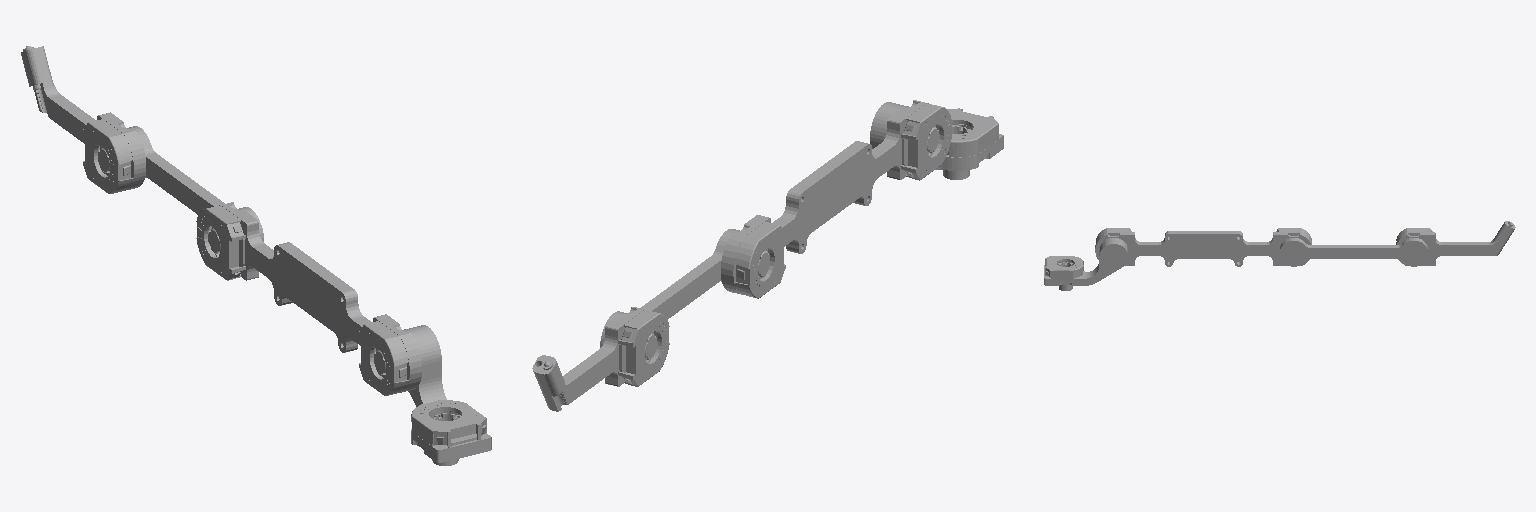
URDF robot description (V5):
<?xml version="1.0" encoding="utf-8"?>
<!-- =================================================================================== -->
<!-- |    This document was autogenerated by xacro from V5.xacro                       | -->
<!-- |    EDITING THIS FILE BY HAND IS NOT RECOMMENDED                                 | -->
<!-- =================================================================================== -->
<robot name="V5">
  <material name="silver">
    <color rgba="0.700 0.700 0.700 1.000"/>
  </material>
  <transmission name="Rev5_tran">
    <type>transmission_interface/SimpleTransmission</type>
    <joint name="Rev5">
      <hardwareInterface>hardware_interface/EffortJointInterface</hardwareInterface>
    </joint>
    <actuator name="Rev5_actr">
      <hardwareInterface>hardware_interface/EffortJointInterface</hardwareInterface>
      <mechanicalReduction>1</mechanicalReduction>
    </actuator>
  </transmission>
  <transmission name="Rev6_tran">
    <type>transmission_interface/SimpleTransmission</type>
    <joint name="Rev6">
      <hardwareInterface>hardware_interface/EffortJointInterface</hardwareInterface>
    </joint>
    <actuator name="Rev6_actr">
      <hardwareInterface>hardware_interface/EffortJointInterface</hardwareInterface>
      <mechanicalReduction>1</mechanicalReduction>
    </actuator>
  </transmission>
  <transmission name="Rev7_tran">
    <type>transmission_interface/SimpleTransmission</type>
    <joint name="Rev7">
      <hardwareInterface>hardware_interface/EffortJointInterface</hardwareInterface>
    </joint>
    <actuator name="Rev7_actr">
      <hardwareInterface>hardware_interface/EffortJointInterface</hardwareInterface>
      <mechanicalReduction>1</mechanicalReduction>
    </actuator>
  </transmission>
  <transmission name="Rev8_tran">
    <type>transmission_interface/SimpleTransmission</type>
    <joint name="Rev8">
      <hardwareInterface>hardware_interface/EffortJointInterface</hardwareInterface>
    </joint>
    <actuator name="Rev8_actr">
      <hardwareInterface>hardware_interface/EffortJointInterface</hardwareInterface>
      <mechanicalReduction>1</mechanicalReduction>
    </actuator>
  </transmission>
  <gazebo>
    <plugin filename="libgazebo_ros_control.so" name="control"/>
  </gazebo>
  <gazebo reference="base_link">
    <material>Gazebo/Silver</material>
    <mu1>0.2</mu1>
    <mu2>0.2</mu2>
    <selfCollide>true</selfCollide>
    <gravity>true</gravity>
  </gazebo>
  <gazebo reference="link_3_1">
    <material>Gazebo/Silver</material>
    <mu1>0.2</mu1>
    <mu2>0.2</mu2>
    <selfCollide>true</selfCollide>
  </gazebo>
  <gazebo reference="link_2_1">
    <material>Gazebo/Silver</material>
    <mu1>0.2</mu1>
    <mu2>0.2</mu2>
    <selfCollide>true</selfCollide>
  </gazebo>
  <gazebo reference="link_1_1">
    <material>Gazebo/Silver</material>
    <mu1>0.2</mu1>
    <mu2>0.2</mu2>
    <selfCollide>true</selfCollide>
  </gazebo>
  <gazebo reference="link_0_1">
    <material>Gazebo/Silver</material>
    <mu1>0.2</mu1>
    <mu2>0.2</mu2>
    <selfCollide>true</selfCollide>
  </gazebo>
  <link name="base_link">
    <inertial>
      <origin rpy="0 0 0" xyz="0.0030690000529868112 -0.004930753908953767 0.0060954147991827655"/>
      <mass value="0.001017166589049506"/>
      <inertia ixx="0.0" ixy="0.0" ixz="0.0" iyy="0.0" iyz="0.0" izz="0.0"/>
    </inertial>
    <visual>
      <origin rpy="0 0 0" xyz="0 0 0"/>
      <geometry>
        <mesh filename="package://V5_description/meshes/base_link.stl" scale="0.001 0.001 0.001"/>
      </geometry>
      <material name="silver"/>
    </visual>
    <collision>
      <origin rpy="0 0 0" xyz="0 0 0"/>
      <geometry>
        <mesh filename="package://V5_description/meshes/base_link.stl" scale="0.001 0.001 0.001"/>
      </geometry>
    </collision>
  </link>
  <link name="link_3_1">
    <inertial>
      <origin rpy="0 0 0" xyz="-0.005152868471693287 0.02481010722854876 0.0018574172697317093"/>
      <mass value="0.011902447961491562"/>
      <inertia ixx="1.1e-05" ixy="-0.0" ixz="0.0" iyy="1e-06" iyz="-1e-06" izz="1e-05"/>
    </inertial>
    <visual>
      <origin rpy="0 0 0" xyz="-0.005069 -0.285069 -0.031743"/>
      <geometry>
        <mesh filename="package://V5_description/meshes/link_3_1.stl" scale="0.001 0.001 0.001"/>
      </geometry>
      <material name="silver"/>
    </visual>
    <collision>
      <origin rpy="0 0 0" xyz="-0.005069 -0.285069 -0.031743"/>
      <geometry>
        <mesh filename="package://V5_description/meshes/link_3_1.stl" scale="0.001 0.001 0.001"/>
      </geometry>
    </collision>
  </link>
  <link name="link_2_1">
    <inertial>
      <origin rpy="0 0 0" xyz="0.0009055416474958236 0.049999413752218724 2.1327025657297272e-07"/>
      <mass value="0.10132228949775199"/>
      <inertia ixx="0.000184" ixy="-0.0" ixz="-0.0" iyy="4e-06" iyz="0.0" izz="0.000184"/>
    </inertial>
    <visual>
      <origin rpy="0 0 0" xyz="-0.005069 -0.185069 -0.031743"/>
      <geometry>
        <mesh filename="package://V5_description/meshes/link_2_1.stl" scale="0.001 0.001 0.001"/>
      </geometry>
      <material name="silver"/>
    </visual>
    <collision>
      <origin rpy="0 0 0" xyz="-0.005069 -0.185069 -0.031743"/>
      <geometry>
        <mesh filename="package://V5_description/meshes/link_2_1.stl" scale="0.001 0.001 0.001"/>
      </geometry>
    </collision>
  </link>
  <link name="link_1_1">
    <inertial>
      <origin rpy="0 0 0" xyz="-0.004689560010774196 0.07499986334155206 0.0010242857380551376"/>
      <mass value="0.026203534667712382"/>
      <inertia ixx="7.9e-05" ixy="0.0" ixz="-0.0" iyy="2e-06" iyz="0.0" izz="7.8e-05"/>
    </inertial>
    <visual>
      <origin rpy="0 0 0" xyz="-0.005069 -0.035069 -0.031743"/>
      <geometry>
        <mesh filename="package://V5_description/meshes/link_1_1.stl" scale="0.001 0.001 0.001"/>
      </geometry>
      <material name="silver"/>
    </visual>
    <collision>
      <origin rpy="0 0 0" xyz="-0.005069 -0.035069 -0.031743"/>
      <geometry>
        <mesh filename="package://V5_description/meshes/link_1_1.stl" scale="0.001 0.001 0.001"/>
      </geometry>
    </collision>
  </link>
  <link name="link_0_1">
    <inertial>
      <origin rpy="0 0 0" xyz="0.0038425748097726006 0.020806219418995853 0.015441576217583838"/>
      <mass value="0.016056852755794385"/>
      <inertia ixx="9e-06" ixy="-1e-06" ixz="-0.0" iyy="3e-06" iyz="-3e-06" izz="8e-06"/>
    </inertial>
    <visual>
      <origin rpy="0 0 0" xyz="-0.003069 0.004931 -0.005243"/>
      <geometry>
        <mesh filename="package://V5_description/meshes/link_0_1.stl" scale="0.001 0.001 0.001"/>
      </geometry>
      <material name="silver"/>
    </visual>
    <collision>
      <origin rpy="0 0 0" xyz="-0.003069 0.004931 -0.005243"/>
      <geometry>
        <mesh filename="package://V5_description/meshes/link_0_1.stl" scale="0.001 0.001 0.001"/>
      </geometry>
    </collision>
  </link>
  <joint name="Rev5" type="continuous">
    <origin rpy="0 0 0" xyz="0.0 0.1 0.0"/>
    <parent link="link_2_1"/>
    <child link="link_3_1"/>
    <axis xyz="-1.0 0.0 -0.0"/>
  </joint>
  <joint name="Rev6" type="continuous">
    <origin rpy="0 0 0" xyz="0.0 0.15 0.0"/>
    <parent link="link_1_1"/>
    <child link="link_2_1"/>
    <axis xyz="-1.0 0.0 -0.0"/>
  </joint>
  <joint name="Rev7" type="continuous">
    <origin rpy="0 0 0" xyz="0.002 0.04 0.0265"/>
    <parent link="link_0_1"/>
    <child link="link_1_1"/>
    <axis xyz="-1.0 0.0 -0.0"/>
  </joint>
  <joint name="Rev8" type="continuous">
    <origin rpy="0 0 0" xyz="0.003069 -0.004931 0.005243"/>
    <parent link="base_link"/>
    <child link="link_0_1"/>
    <axis xyz="-0.0 0.0 1.0"/>
  </joint>
  <klampt package_root="../.." />
</robot>

--- Facts derived from the render (not from the file) ---
Views: 3 orthographic renders of the robot side by side, from view 1: azimuth 30°, elevation 25°; view 2: azimuth 150°, elevation 25°; view 3: azimuth 270°, elevation 25°.
Robot: V5 — 5 links, 4 joints (4 continuous); root link base_link; default pose: all joints at 0.
Links seen in each view (by area): view 1: link_1_1, link_3_1, link_0_1, link_2_1; view 2: link_1_1, link_3_1, link_0_1, link_2_1; view 3: link_1_1, link_2_1, link_0_1, link_3_1.
Boxes of the visible links, x1,y1,x2,y2 form: link_1_1: (196,202,421,395); link_3_1: (21,46,145,193); link_0_1: (374,325,491,462); link_2_1: (98,126,263,253); link_1_1: (721,100,951,298); link_3_1: (532,307,669,411); link_0_1: (870,102,1003,170); link_2_1: (600,229,769,359); link_1_1: (1095,228,1311,266); link_2_1: (1280,238,1428,266); link_0_1: (1044,238,1127,285); link_3_1: (1396,221,1515,265).
Size in the robot's own frame: 0.0286 by 0.392 by 0.0595 metres.
5 mesh visuals loaded from 5 distinct referenced files (5 binary STL).